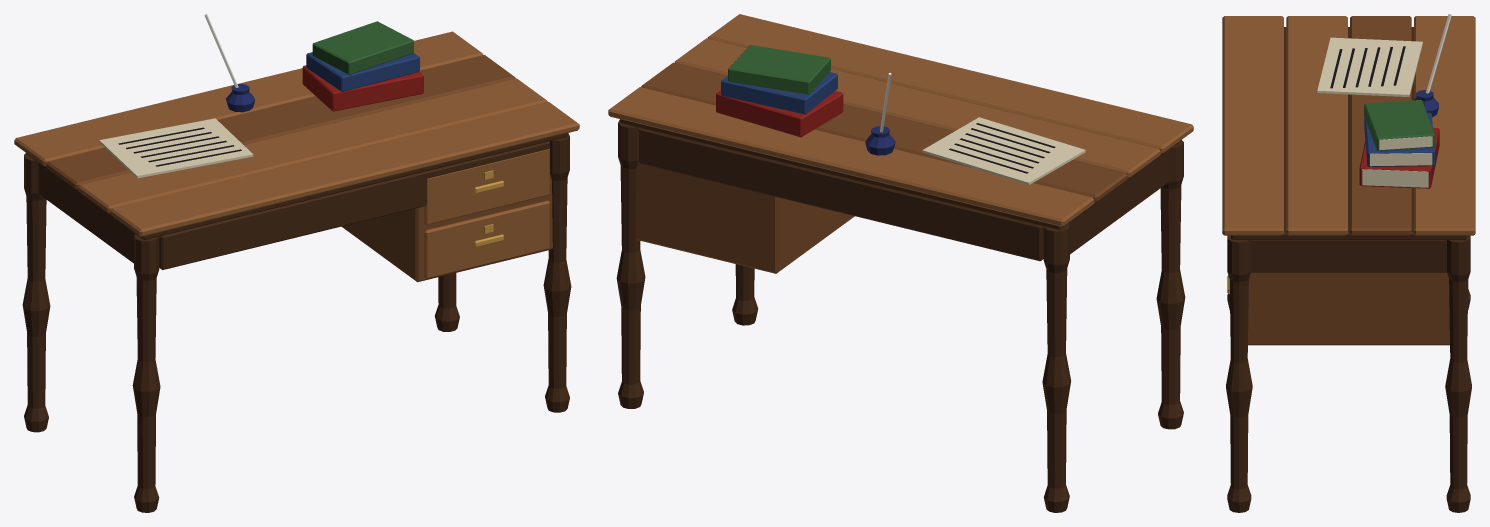
File: desk.obj
The picture shows the model from 3 angles, left to right: view 1: azimuth 30°, elevation 25°; view 2: azimuth 150°, elevation 25°; view 3: azimuth 270°, elevation 25°; orthographic projection. The views are drawn at different scales.
Parts seen in each view (by area): view 1: box.001, box.002, box.005, box.004, box.003, box.010, lathe, box.013, lathe.001, lathe.002, box.016, box.009 (+7 smaller); view 2: box.004, box.006, box.001, box.009, box.002, box.003, lathe.001, lathe, lathe.003, box.016, box.027, box.007 (+5 smaller); view 3: box.009, box.001, box.002, box.004, box.008, box.003, lathe.002, lathe.003, box.016, box.027, box, box.024 (+6 smaller).
Part boxes in pixels (box(x1,y1,x2,y2)): box.001: box(110, 102, 579, 236); box.002: box(78, 78, 547, 213); box.005: box(159, 141, 549, 269); box.004: box(14, 31, 483, 166); box.003: box(46, 55, 515, 189); box.010: box(424, 200, 549, 278); lathe: box(132, 234, 160, 512); box.013: box(424, 148, 549, 224); lathe.001: box(22, 153, 50, 432); lathe.002: box(543, 133, 571, 412); box.016: box(99, 118, 253, 178); box.009: box(341, 141, 552, 282); box.004: box(608, 87, 1094, 226); box.006: box(639, 128, 1043, 261); box.001: box(707, 14, 1193, 153); box.009: box(635, 128, 854, 273); box.002: box(674, 38, 1160, 178); box.003: box(641, 62, 1127, 202); lathe.001: box(1042, 224, 1070, 512); lathe: box(1156, 140, 1185, 429); lathe.003: box(616, 119, 645, 408); box.016: box(922, 117, 1085, 184); box.027: box(728, 45, 830, 94); box.007: box(1068, 150, 1168, 254); box.009: box(1248, 272, 1449, 345); box.001: box(1222, 16, 1283, 235); box.002: box(1286, 16, 1347, 235); box.004: box(1414, 16, 1475, 235); box.008: box(1251, 240, 1446, 272); box.003: box(1350, 16, 1411, 235); lathe.002: box(1226, 235, 1252, 512); lathe.003: box(1445, 235, 1471, 512); box.016: box(1317, 37, 1422, 96); box.027: box(1364, 100, 1435, 150); box: box(1231, 27, 1466, 239); box.024: box(1362, 169, 1428, 187).
Size of the model in its own units: 1.2 by 0.9811 by 0.6.
